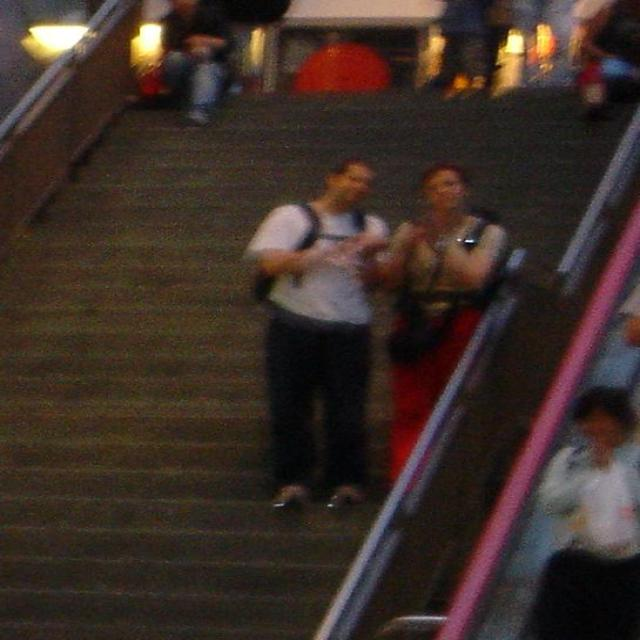non-fight: (226, 150, 392, 508), (378, 151, 512, 503)
